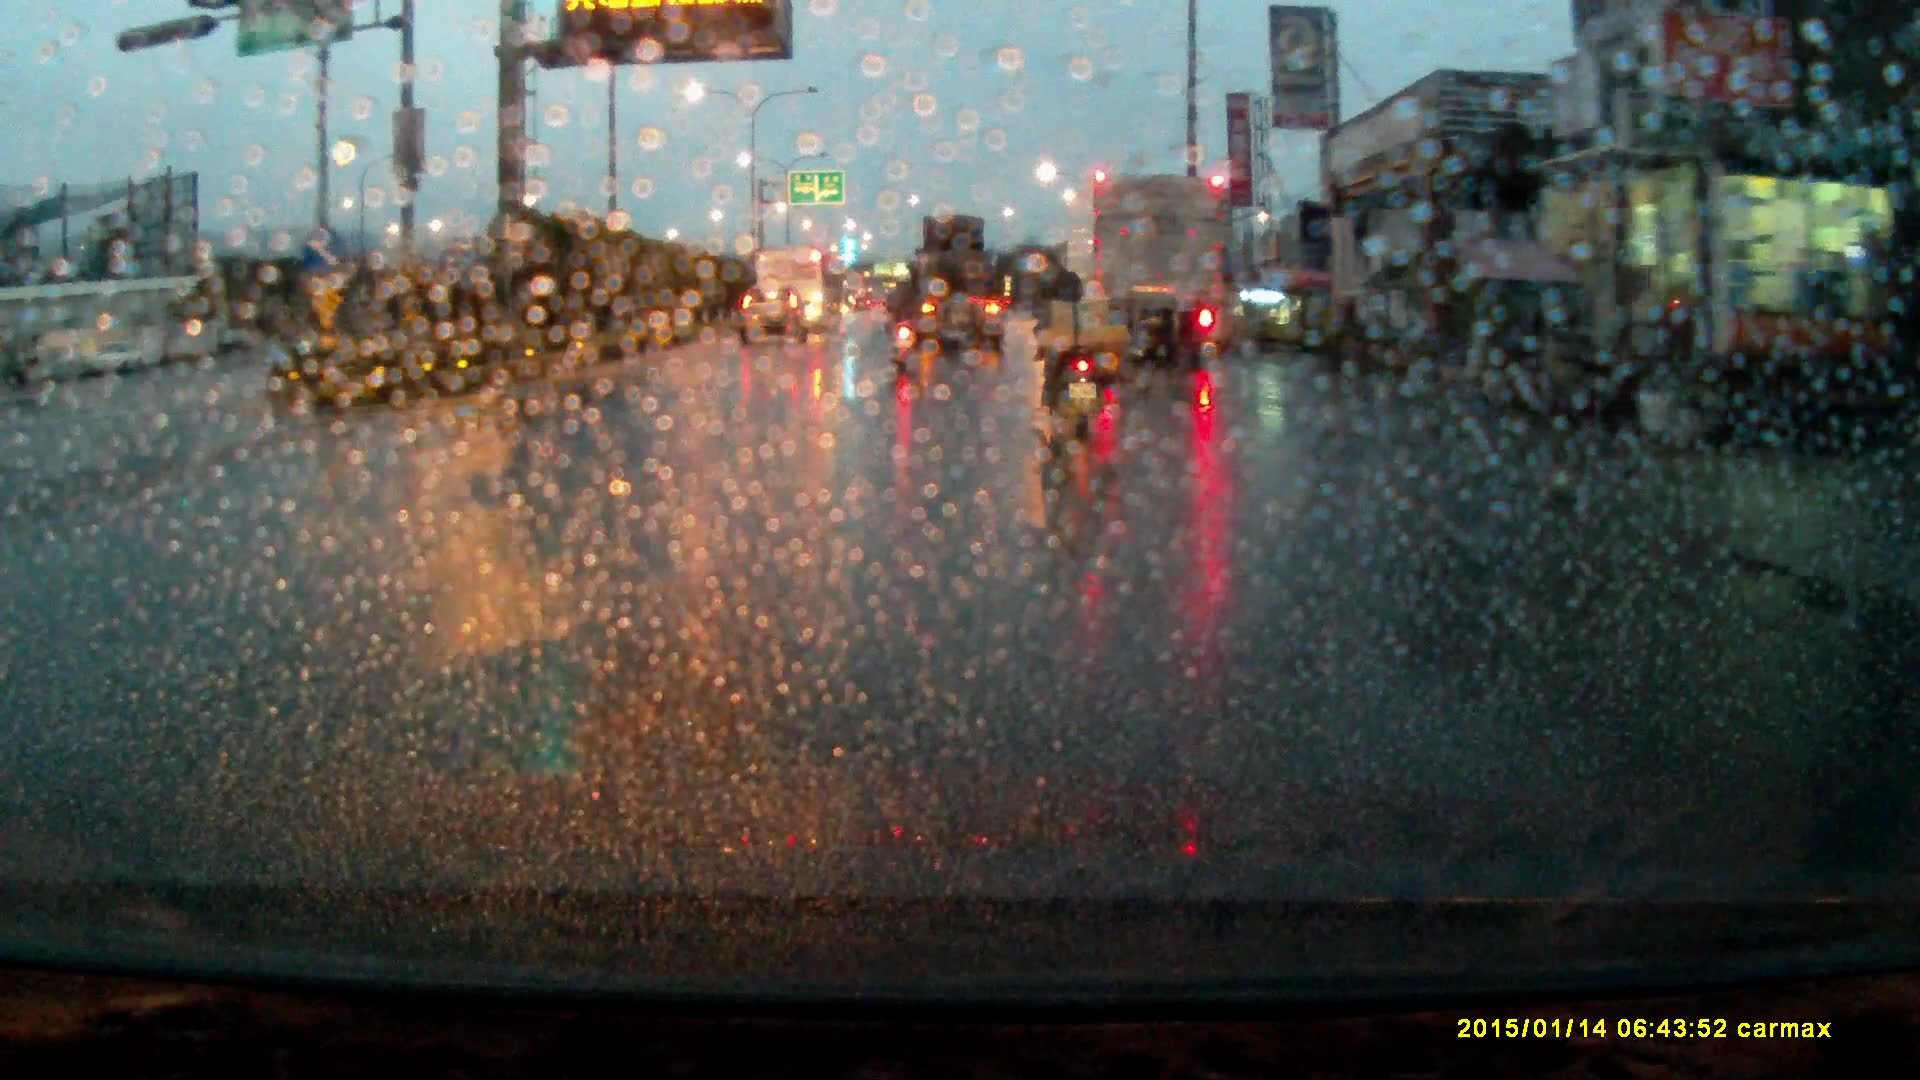rider: (1034, 263, 1118, 437), (890, 268, 927, 366)
vehicle: (1066, 175, 1233, 368), (899, 215, 1001, 360), (768, 244, 843, 327), (741, 285, 813, 351)
